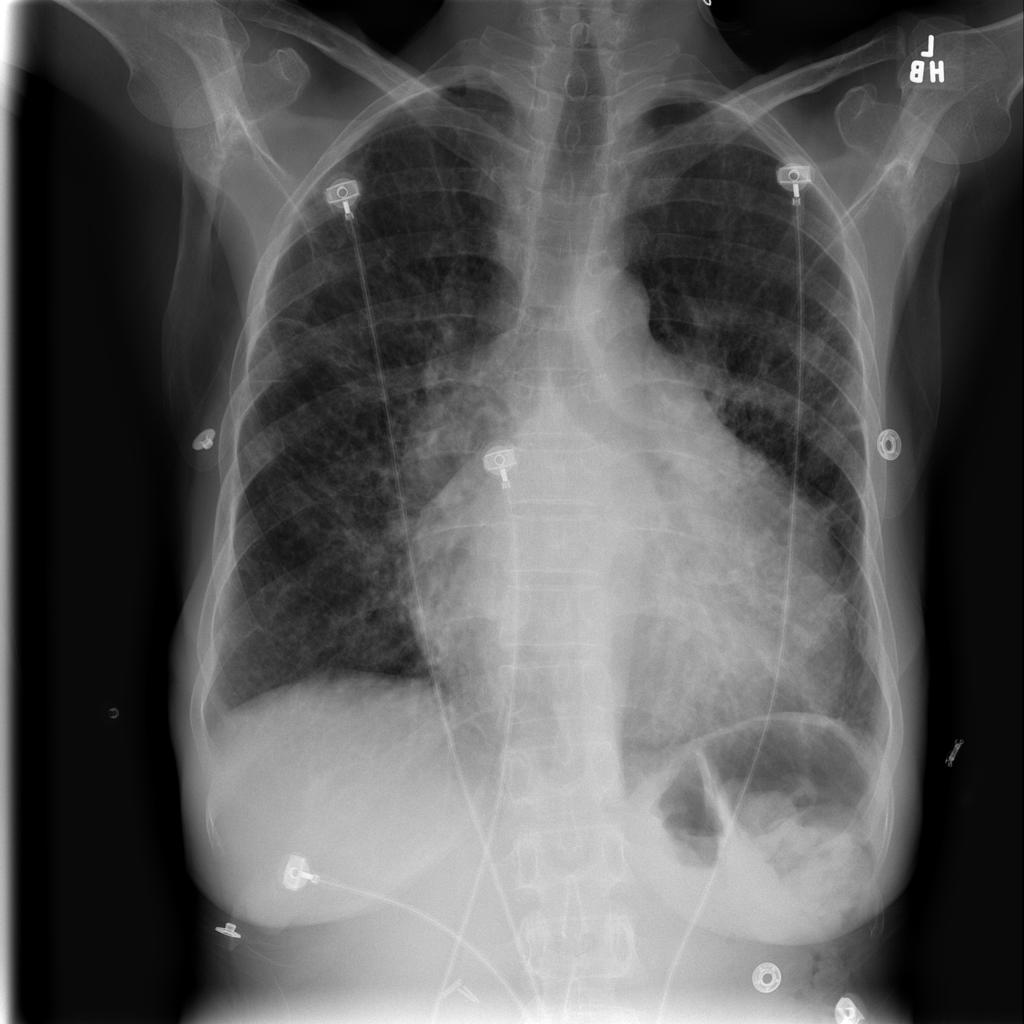Cardiomegaly: (350, 347, 876, 769)
